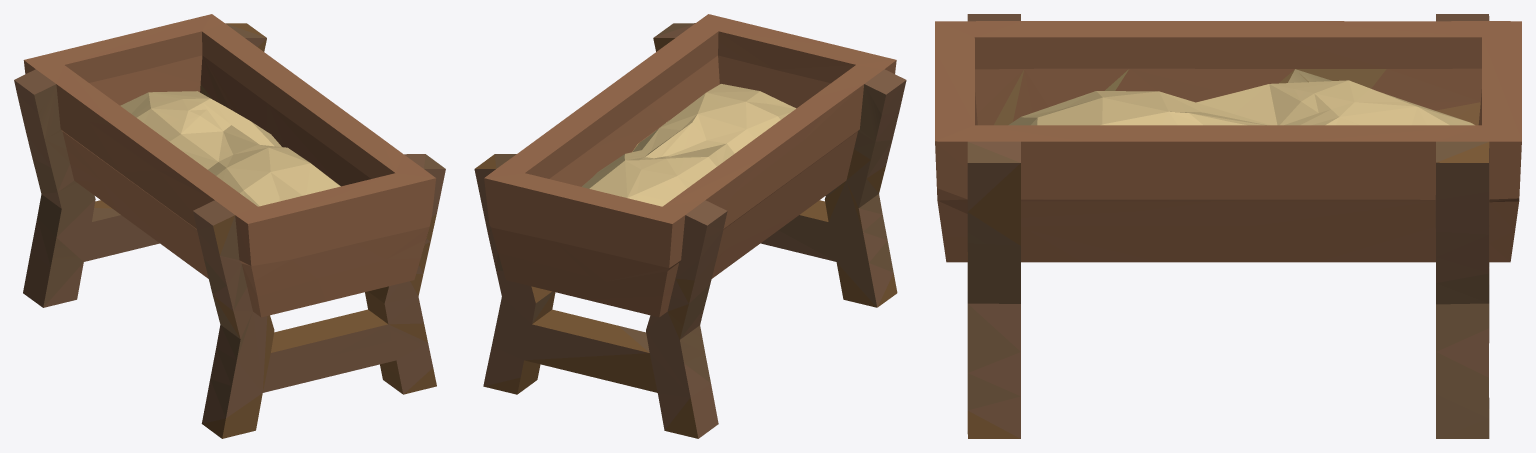
The model's file is mdvl_props_feed_trough_01.fbx.
3 renders of one model, left to right at view 1: azimuth 30°, elevation 25°; view 2: azimuth 150°, elevation 25°; view 3: azimuth 270°, elevation 25°, orthographic. The views are drawn at different scales.
Visible parts, largest first — view 1: mdvl_props_feed_trough_01; view 2: mdvl_props_feed_trough_01; view 3: mdvl_props_feed_trough_01.
Part boxes in pixels (bbox=[...]): mdvl_props_feed_trough_01: bbox=[14, 14, 445, 438]; mdvl_props_feed_trough_01: bbox=[474, 14, 906, 438]; mdvl_props_feed_trough_01: bbox=[935, 14, 1521, 438].
Size of the model in its own units: 72.11 by 65.31 by 120.
